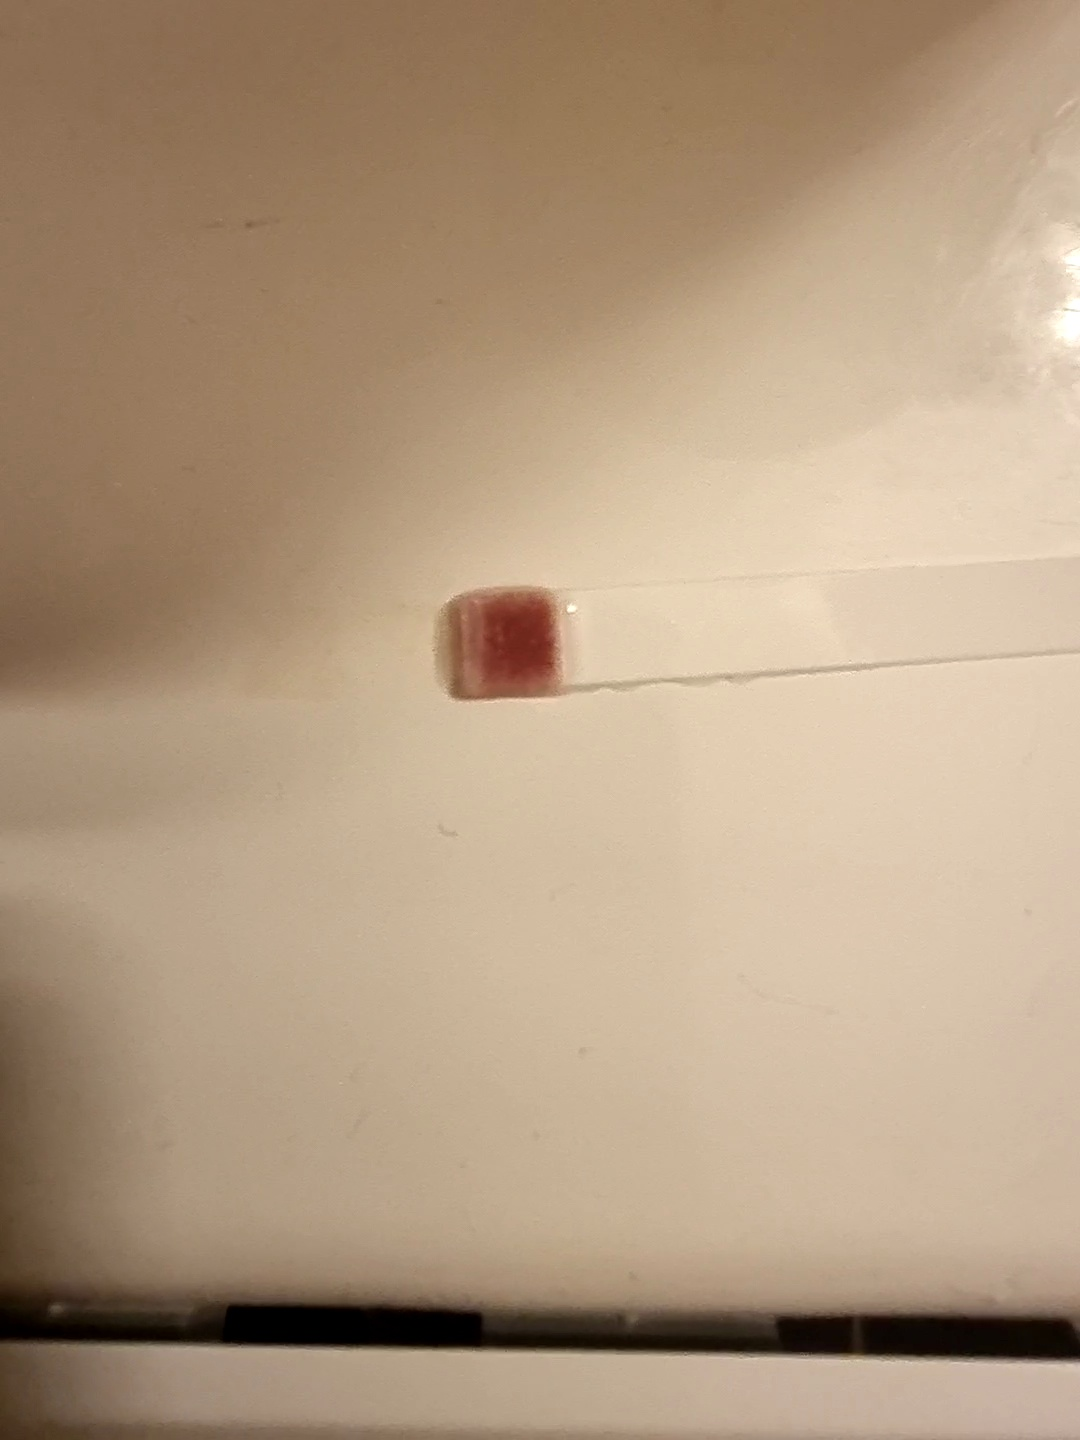keto-tip: (433, 581, 572, 704)
